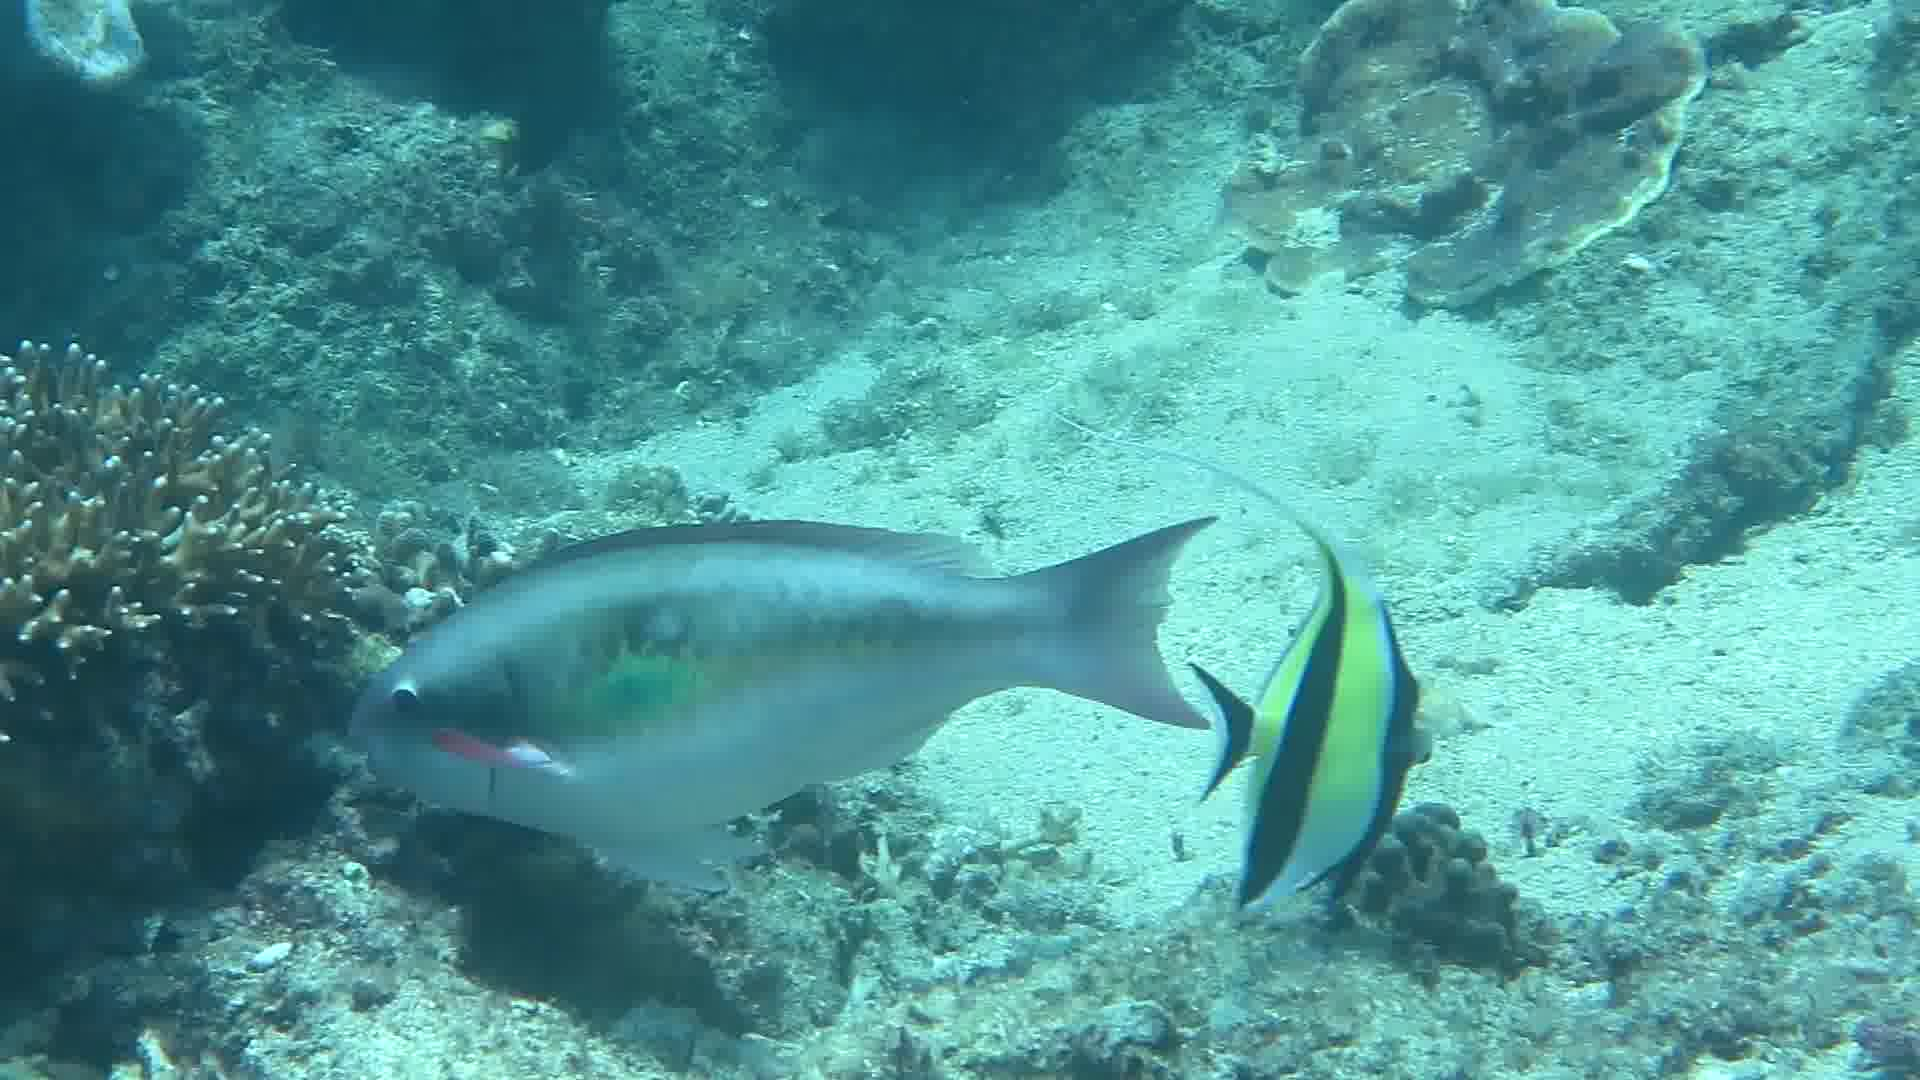Zanclus cornutus: (1135, 558, 1491, 922)
